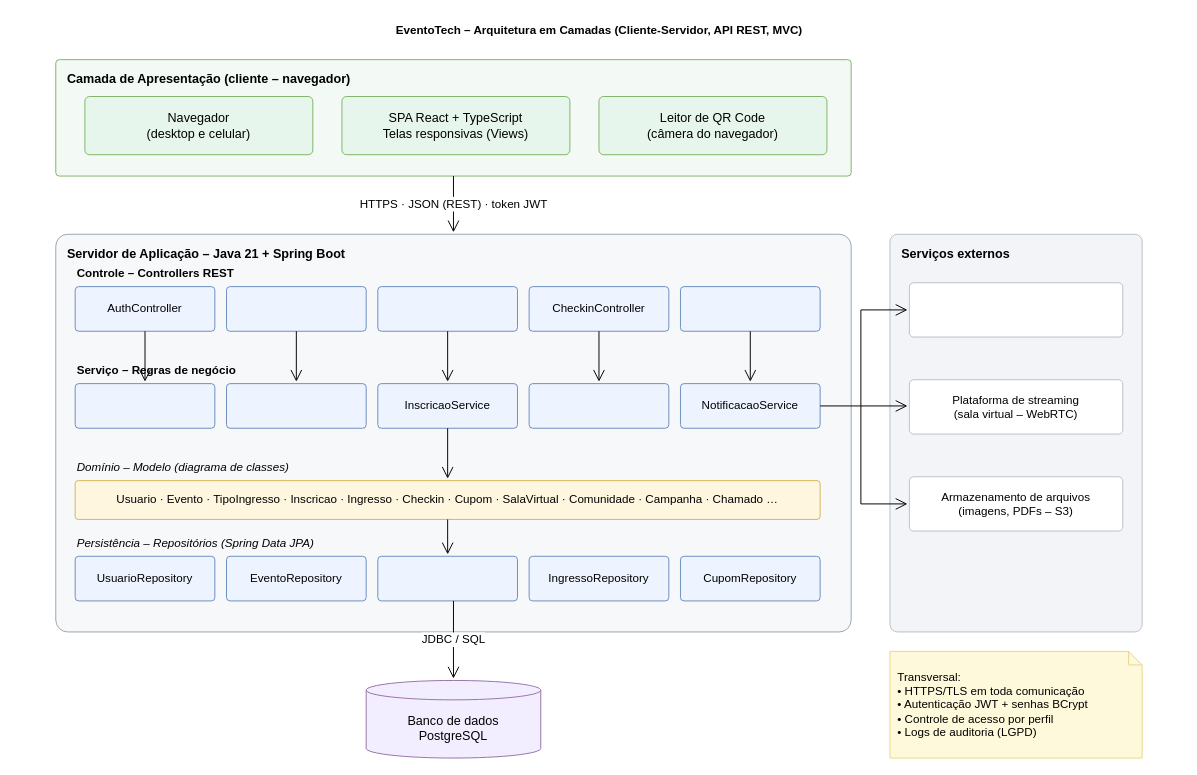
Image size: 1197x775. Some labels were removed from this diagram. The shapes that lost their labels are listed below. From the top down, each one's centre as x and y in pixels, then its label:
(x=296, y=308): EventoController
(x=447, y=308): InscricaoController
(x=749, y=308): RelatorioController
(x=1015, y=309): Serviço de e-mail (SMTP / SendGrid)
(x=144, y=405): AutenticacaoService
(x=296, y=405): EventoService
(x=598, y=405): CheckinService
(x=447, y=578): InscricaoRepository
